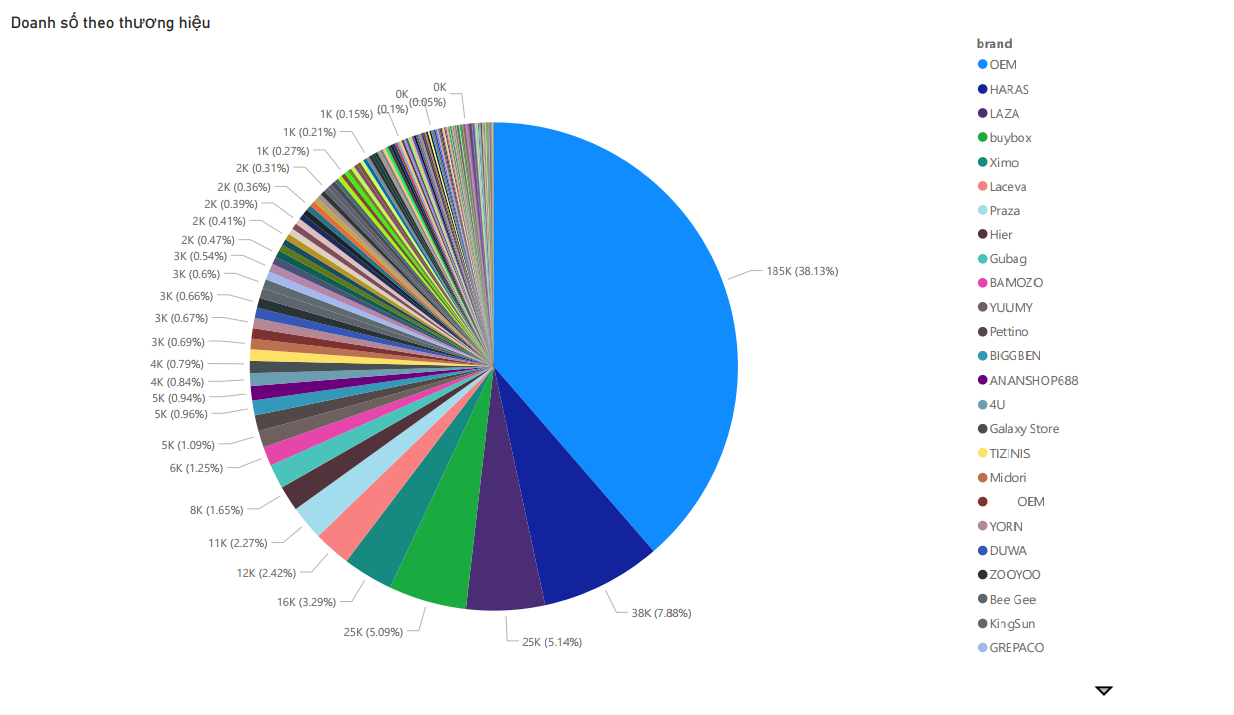

This screenshot's page, from the dashboard's own definition file:
{"tool":"powerbi","page":{"name":"Page 2","canvas":[1280,720],"ordinal":1},"visuals":[{"type":"pieChart","title":"Doanh số theo thương hiệu","fields":{"Category":["public DimBrand.brand"],"Y":["Sum(public FactSales.quantity_sold)"]},"box":[0,0,1280,720],"z":0}]}

Visuals, with their boxes in screenshot pixels (x1, y1, x2, y2), scaled from the page's 1280x720 canvas onto the 1234x715 screenshot:
"Doanh số theo thương hiệu" pieChart: x1=0 y1=0 x2=1233 y2=714
